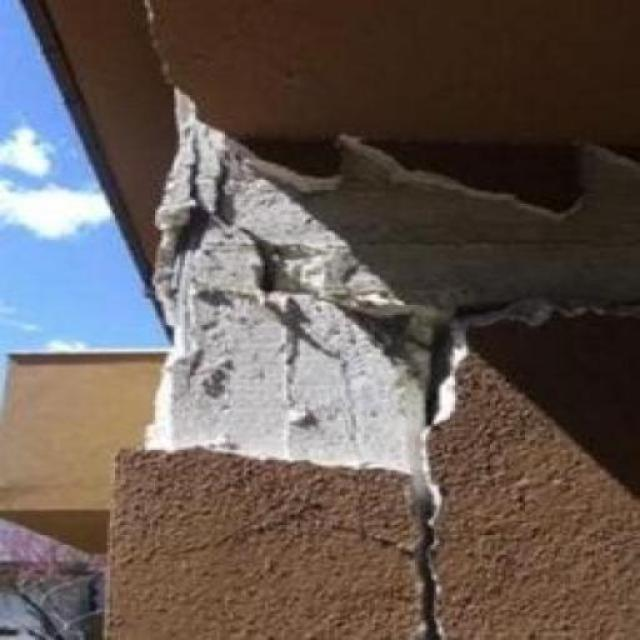D10: (154, 91, 639, 472)
